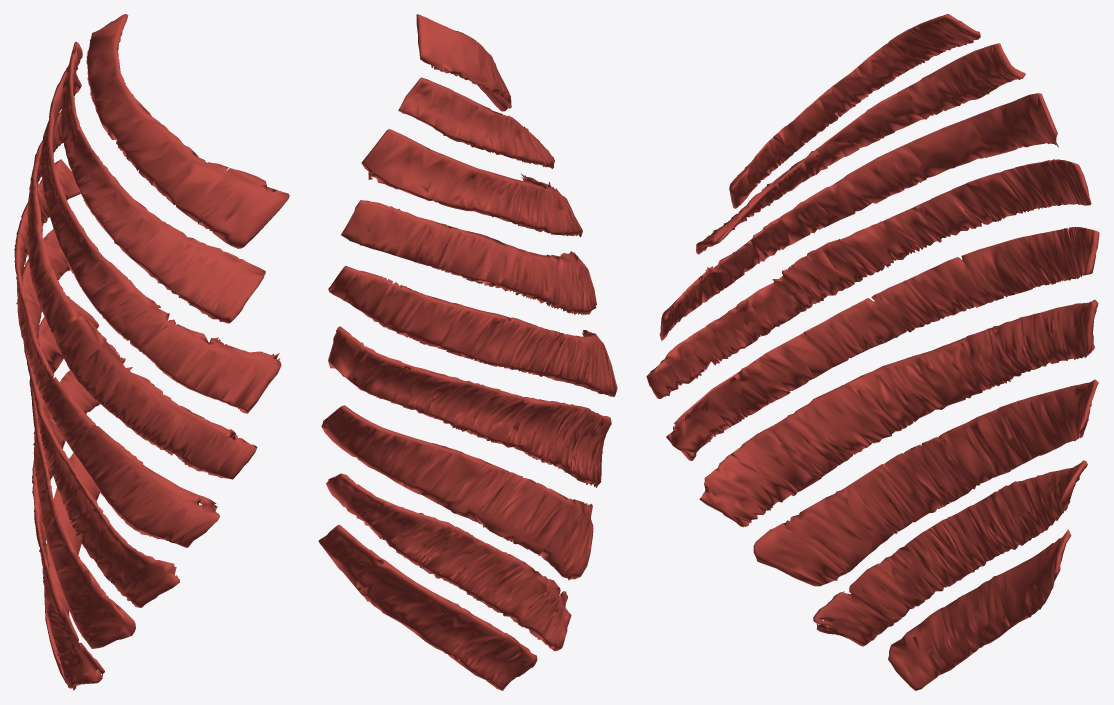
The model's file is musculos-innermost-intercostal-muscles-r.glb.
3 renders of one model, left to right at view 1: azimuth 30°, elevation 25°; view 2: azimuth 150°, elevation 25°; view 3: azimuth 270°, elevation 25°, orthographic. The views are drawn at different scales.
Visible parts, largest first — view 1: Innermost intercostal muscles.r; view 2: Innermost intercostal muscles.r; view 3: Innermost intercostal muscles.r.
Part boxes in pixels (x1,y1,x2,y2): Innermost intercostal muscles.r: [14, 14, 289, 690]; Innermost intercostal muscles.r: [318, 14, 617, 690]; Innermost intercostal muscles.r: [646, 14, 1099, 690].
Size of the model in its own units: 0.0919 by 0.3248 by 0.1874.
